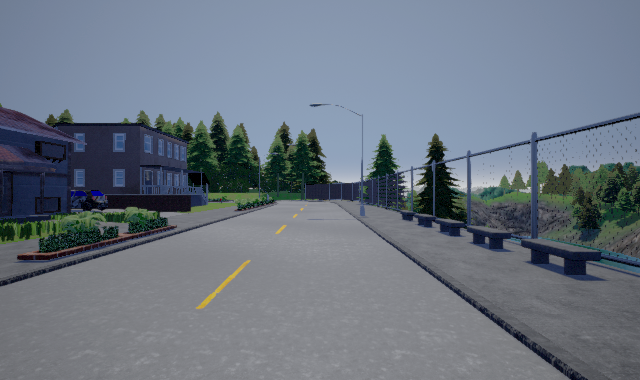vehicle: (71, 190, 108, 211)
